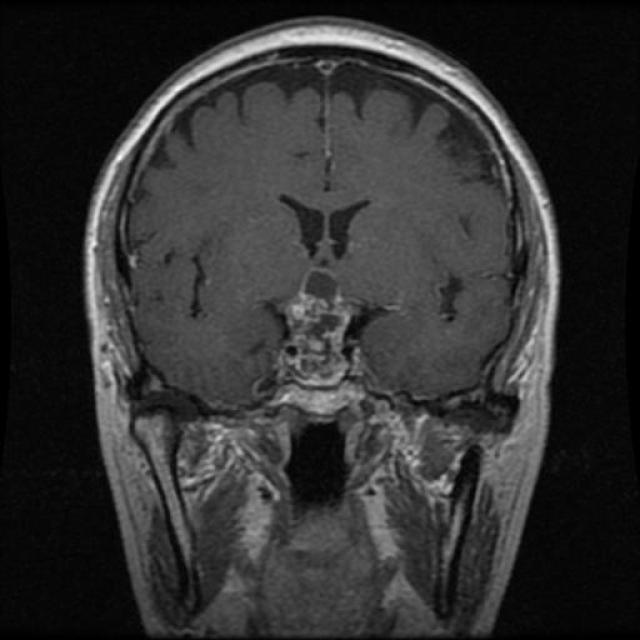pituitary: (276, 262, 370, 416)
